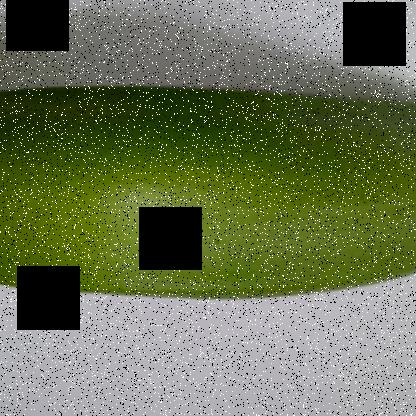freshunripe: (1, 54, 415, 332)
